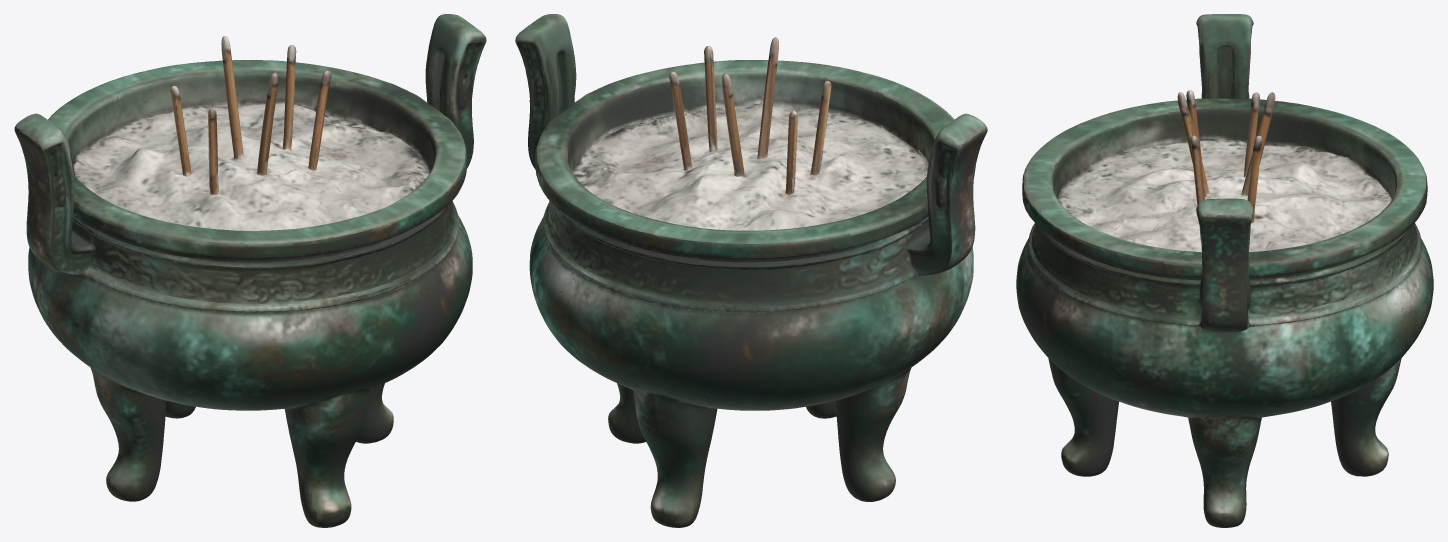
File: S1-06_censer_A.glb
3 renders of one model, left to right at view 1: azimuth 30°, elevation 25°; view 2: azimuth 150°, elevation 25°; view 3: azimuth 270°, elevation 25°, orthographic. The views are drawn at different scales.
Parts seen in each view (by area): view 1: geometry_0; view 2: geometry_0; view 3: geometry_0.
Part boxes in pixels (box(x1,y1,x2,y2)): geometry_0: box(14, 14, 486, 527); geometry_0: box(515, 14, 987, 527); geometry_0: box(1016, 14, 1433, 527).
Bounding box in the file's own units: 0.5 × 0.4425 × 0.4393.
Materials: 1 (1 with a texture image).
